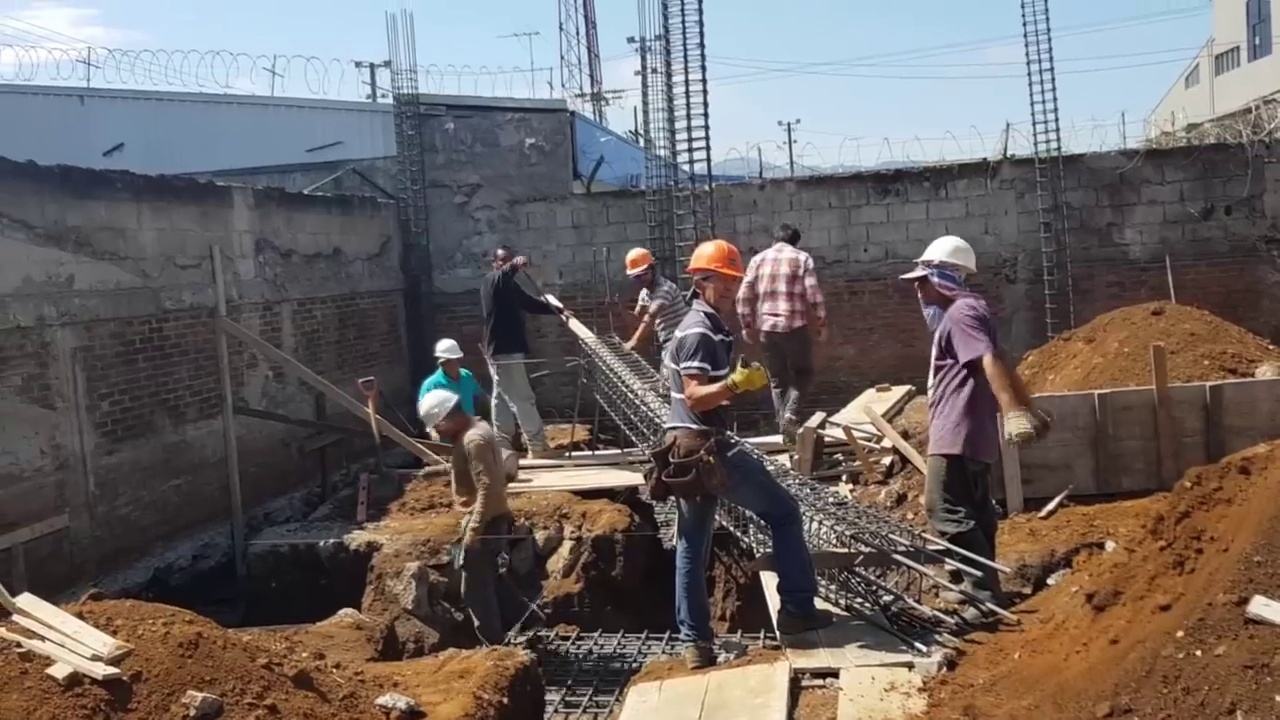helmet: (686, 239, 747, 289), (913, 239, 985, 280), (416, 388, 458, 437), (429, 344, 461, 365), (627, 247, 650, 273)
helmet-off: (771, 223, 804, 255), (488, 244, 516, 275)
helmet-on: (903, 234, 981, 317), (416, 386, 478, 448), (687, 244, 743, 312), (625, 245, 657, 291), (431, 345, 467, 382)
person: (651, 239, 808, 645), (902, 223, 1036, 634), (415, 389, 538, 633), (733, 222, 823, 443), (481, 239, 558, 465), (411, 338, 480, 444), (622, 244, 686, 351)
